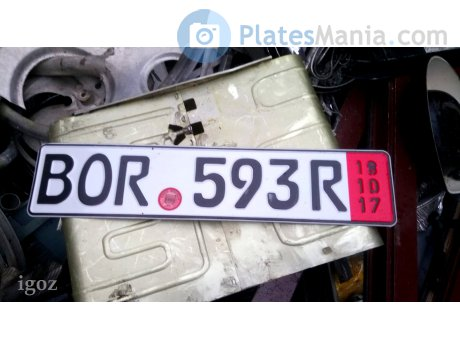License Plates: (47, 153, 346, 212)
